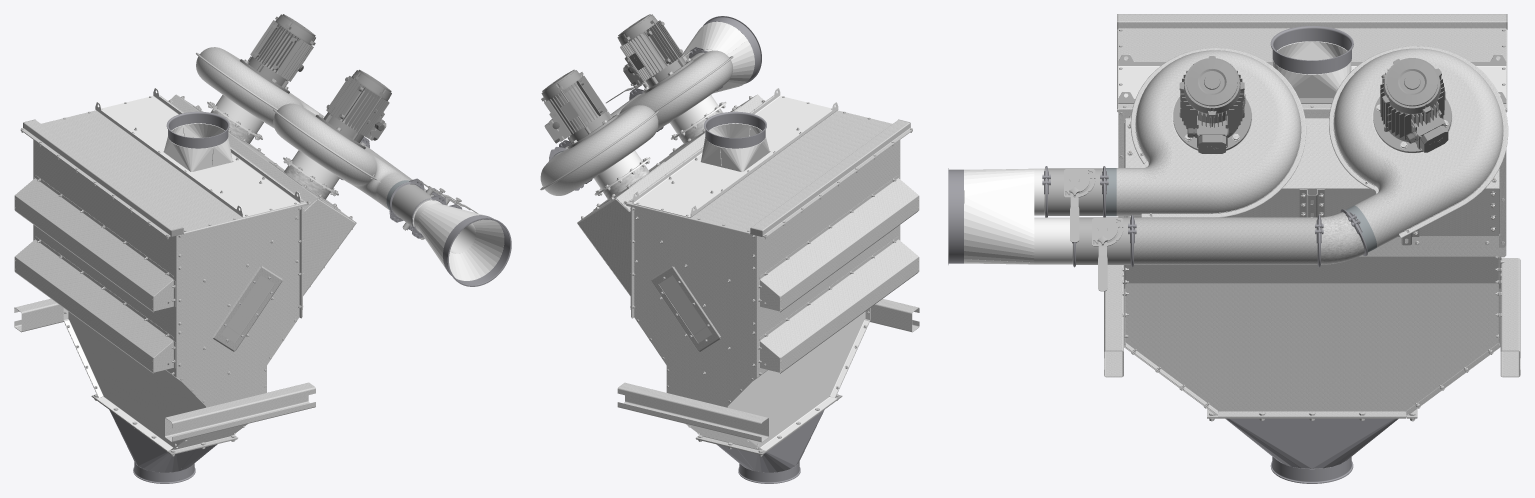
File: NDV80-120.glb
The picture shows the model from 3 angles, left to right: view 1: azimuth 30°, elevation 25°; view 2: azimuth 150°, elevation 25°; view 3: azimuth 270°, elevation 25°; orthographic projection. The views are drawn at different scales.
Parts seen in each view (by area): view 1: Volumenkörper4.002, Volumenkörper3.004, Volumenkörper2.066, Volumenkörper2.078, Volumenkörper2.075, Volumenkörper2.070, Volumenkörper2.072, Volumenkörper2.094, Volumenkörper1.030, Volumenkörper2.098, Volumenkörper2.083, Solid1.119 (+18 smaller); view 2: Volumenkörper2.065, Volumenkörper3.004, Volumenkörper2.066, Volumenkörper2.075, Volumenkörper2.078, Volumenkörper2.070, Volumenkörper2.072, Volumenkörper2.098, Volumenkörper1.029, Volumenkörper2.094, Volumenkörper2.084, Solid1.119 (+21 smaller); view 3: Volumenkörper2.071, Volumenkörper2.094, Volumenkörper2.098, Volumenkörper3.004, Volumenkörper2.082, Volumenkörper1.113, Volumenkörper2.103, Volumenkörper1.037, Solid1.120, Solid1.145, Volumenkörper2.101, Volumenkörper1.029 (+22 smaller).
Boxes of the visible parts, x1=… form: Volumenkörper4.002: x1=172, y1=207, x2=302, y2=454; Volumenkörper3.004: x1=20, y1=95, x2=307, y2=236; Volumenkörper2.066: x1=21, y1=130, x2=181, y2=377; Volumenkörper2.078: x1=14, y1=175, x2=175, y2=312; Volumenkörper2.075: x1=14, y1=236, x2=175, y2=373; Volumenkörper2.070: x1=63, y1=308, x2=205, y2=450; Volumenkörper2.072: x1=95, y1=88, x2=300, y2=217; Volumenkörper2.094: x1=273, y1=103, x2=409, y2=210; Volumenkörper1.030: x1=164, y1=382, x2=315, y2=442; Volumenkörper2.098: x1=196, y1=47, x2=324, y2=128; Volumenkörper2.083: x1=302, y1=198, x2=355, y2=309; Solid1.119: x1=326, y1=76, x2=389, y2=139; Volumenkörper2.065: x1=631, y1=207, x2=761, y2=454; Volumenkörper3.004: x1=626, y1=95, x2=912, y2=236; Volumenkörper2.066: x1=752, y1=130, x2=912, y2=377; Volumenkörper2.075: x1=758, y1=236, x2=919, y2=373; Volumenkörper2.078: x1=758, y1=175, x2=919, y2=312; Volumenkörper2.070: x1=728, y1=308, x2=870, y2=450; Volumenkörper2.072: x1=632, y1=88, x2=838, y2=217; Volumenkörper2.098: x1=540, y1=105, x2=658, y2=195; Volumenkörper1.029: x1=617, y1=382, x2=768, y2=442; Volumenkörper2.094: x1=619, y1=50, x2=733, y2=130; Volumenkörper2.084: x1=578, y1=199, x2=630, y2=309; Solid1.119: x1=620, y1=20, x2=683, y2=84; Volumenkörper2.071: x1=1124, y1=256, x2=1499, y2=417; Volumenkörper2.094: x1=1116, y1=50, x2=1301, y2=216; Volumenkörper2.098: x1=1334, y1=48, x2=1503, y2=247; Volumenkörper3.004: x1=1117, y1=14, x2=1507, y2=112; Volumenkörper2.082: x1=1125, y1=112, x2=1498, y2=247; Volumenkörper1.113: x1=1134, y1=217, x2=1317, y2=264; Volumenkörper2.103: x1=964, y1=168, x2=1034, y2=262; Volumenkörper1.037: x1=1218, y1=411, x2=1405, y2=468; Solid1.120: x1=1179, y1=56, x2=1244, y2=116; Solid1.145: x1=1382, y1=58, x2=1441, y2=113; Volumenkörper2.101: x1=1329, y1=46, x2=1508, y2=238; Volumenkörper1.029: x1=1500, y1=258, x2=1520, y2=377.
Size of the model in its own units: 1.57 by 1.8 by 1.83.
48 materials, 20 textured.
